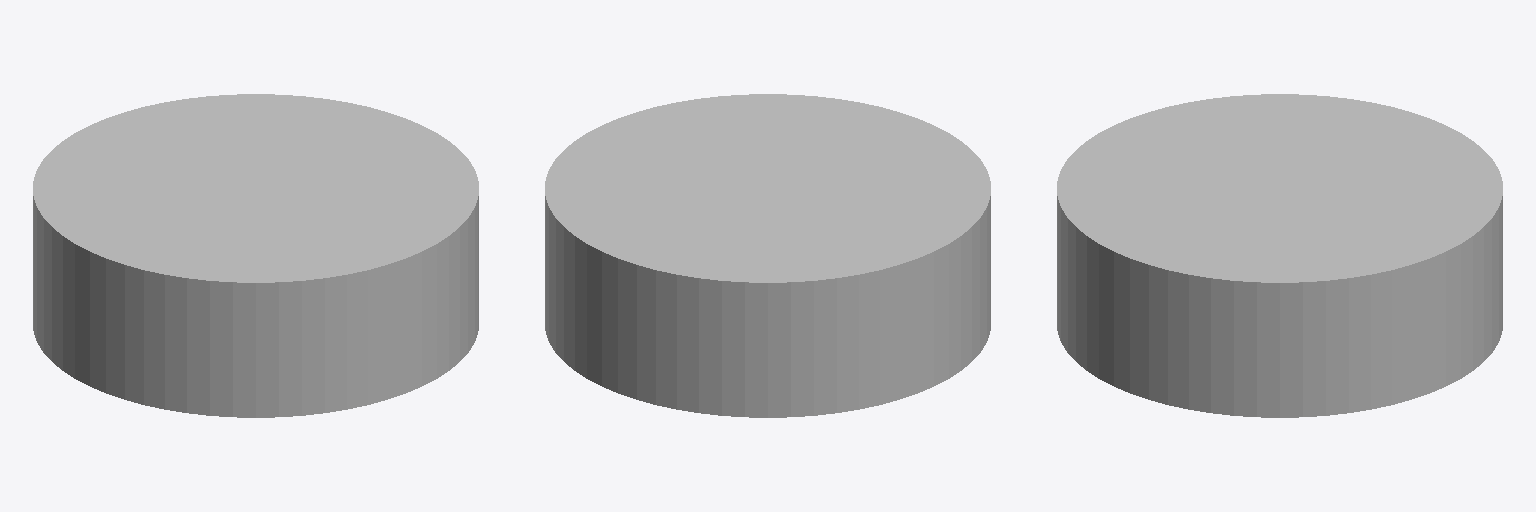
3 renders of one model, left to right at view 1: azimuth 30°, elevation 25°; view 2: azimuth 150°, elevation 25°; view 3: azimuth 270°, elevation 25°, orthographic.
Parts seen in each view (by area): view 1: оƬ; view 2: оƬ; view 3: оƬ.
Boxes of the visible parts, box(x1,y1,x2,y2) form: оƬ: box(33, 94, 478, 417); оƬ: box(545, 94, 990, 417); оƬ: box(1057, 94, 1502, 417).
Size of the model in its own units: 3 by 1 by 3.